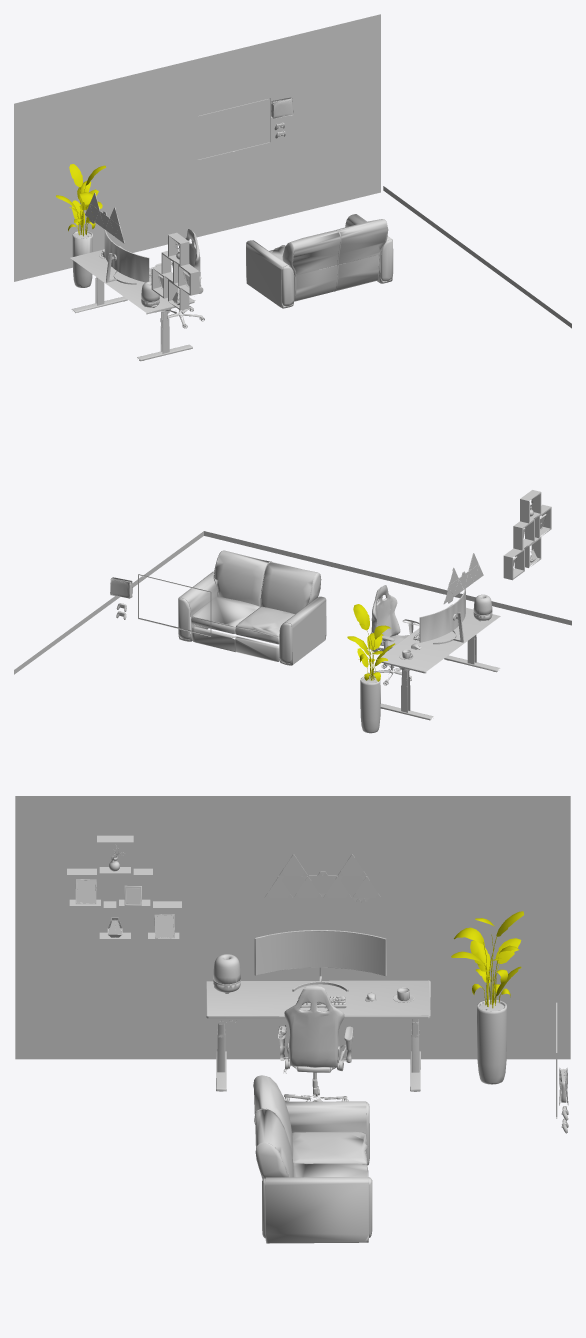
The model's file is offce15.glb.
3 renders of one model, top to bottom at view 1: azimuth 30°, elevation 25°; view 2: azimuth 150°, elevation 25°; view 3: azimuth 270°, elevation 25°, orthographic. The views are drawn at different scales.
Parts seen in each view (by area): view 1: Wall2, Black Leather Couch, TVScreen, (CS) Ascend - Sit-stand, Workstation, Black, White shelf, Gaming PC with Curved Monitor, plant.001, Floor, pot.001; view 2: Black Leather Couch, (CS) Ascend - Sit-stand, Workstation, Black, Floor, White shelf, Gaming PC with Curved Monitor, plant.001, pot.001, Chair_BackRest, Object_3.002, TV 49Zoll_Black_0; view 3: Wall1, Black Leather Couch, (CS) Ascend - Sit-stand, Workstation, Black, Screen, Chair_BackRest, White shelf, plant.001, pot.001, Object_3.002, Nano leaf light_violet_0, Gaming PC with Curved Monitor.
Boxes of the visible parts, box(x1,y1,x2,y2) form: Wall2: box(14, 14, 380, 281); Black Leather Couch: box(246, 214, 393, 308); TVScreen: box(198, 99, 269, 158); (CS) Ascend - Sit-stand, Workstation, Black: box(70, 246, 194, 361); White shelf: box(151, 232, 199, 310); Gaming PC with Curved Monitor: box(104, 229, 149, 284); plant.001: box(56, 164, 106, 236); Floor: box(383, 186, 571, 328); pot.001: box(72, 230, 92, 287); Black Leather Couch: box(178, 550, 326, 665); (CS) Ascend - Sit-stand, Workstation, Black: box(376, 604, 500, 720); Floor: box(14, 531, 571, 674); White shelf: box(503, 490, 551, 580); Gaming PC with Curved Monitor: box(419, 588, 465, 644); plant.001: box(347, 604, 395, 681); pot.001: box(360, 675, 380, 733); Chair_BackRest: box(371, 585, 400, 644); Object_3.002: box(473, 594, 492, 620); TV 49Zoll_Black_0: box(138, 574, 211, 636); Wall1: box(15, 796, 570, 1059); Black Leather Couch: box(253, 1075, 372, 1243); (CS) Ascend - Sit-stand, Workstation, Black: box(206, 980, 430, 1091); Screen: box(256, 931, 385, 975); Chair_BackRest: box(284, 986, 344, 1067); White shelf: box(67, 835, 181, 940); plant.001: box(451, 911, 523, 1008); pot.001: box(477, 999, 506, 1084); Object_3.002: box(213, 954, 240, 992); Nano leaf light_violet_0: box(340, 858, 377, 897); Gaming PC with Curved Monitor: box(254, 930, 386, 991).
Bounding box in the file's own units: 40.79 × 18.94 × 36.1.
